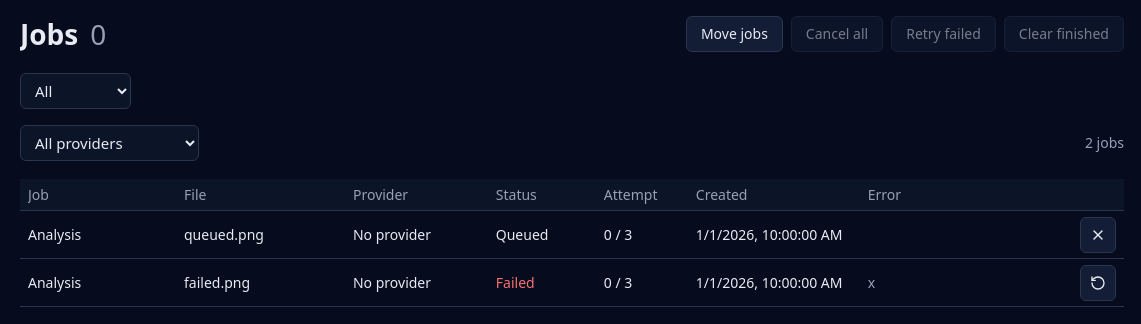
the status filter asks for that status and offers All plus the seven labels
The image size is (1141, 324).
Expected: the text "queued.png" is shown, [184,224,264,244]
Select "Failed" in the dropdown named "Status" at (76, 91), box [20,73,131,109]
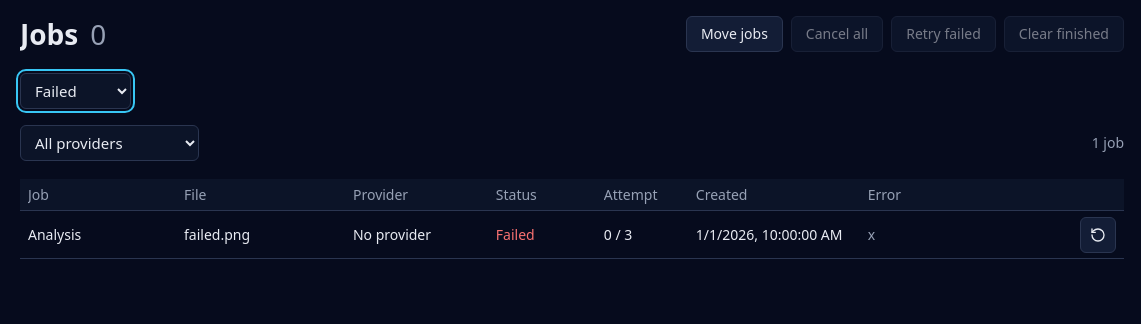
Expected: the text "failed.png" is shown, [184,224,250,244]
Now the text "queued.png" is gone
